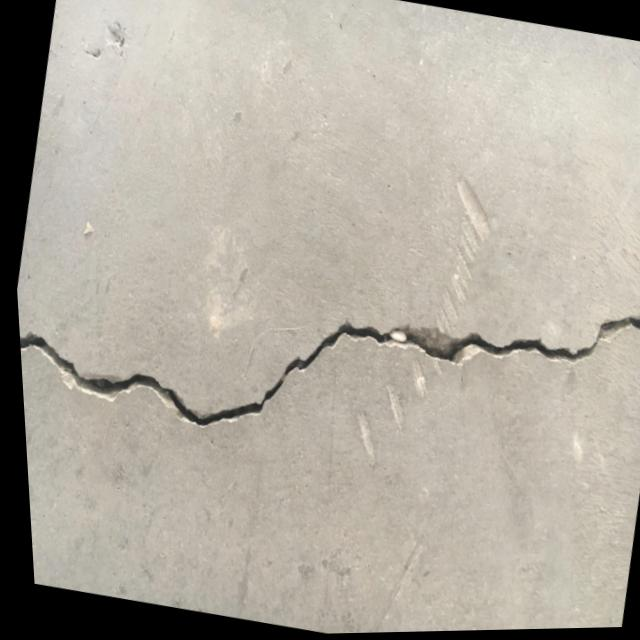Crack: (244, 284, 468, 454), (15, 318, 265, 455), (437, 271, 640, 407)
